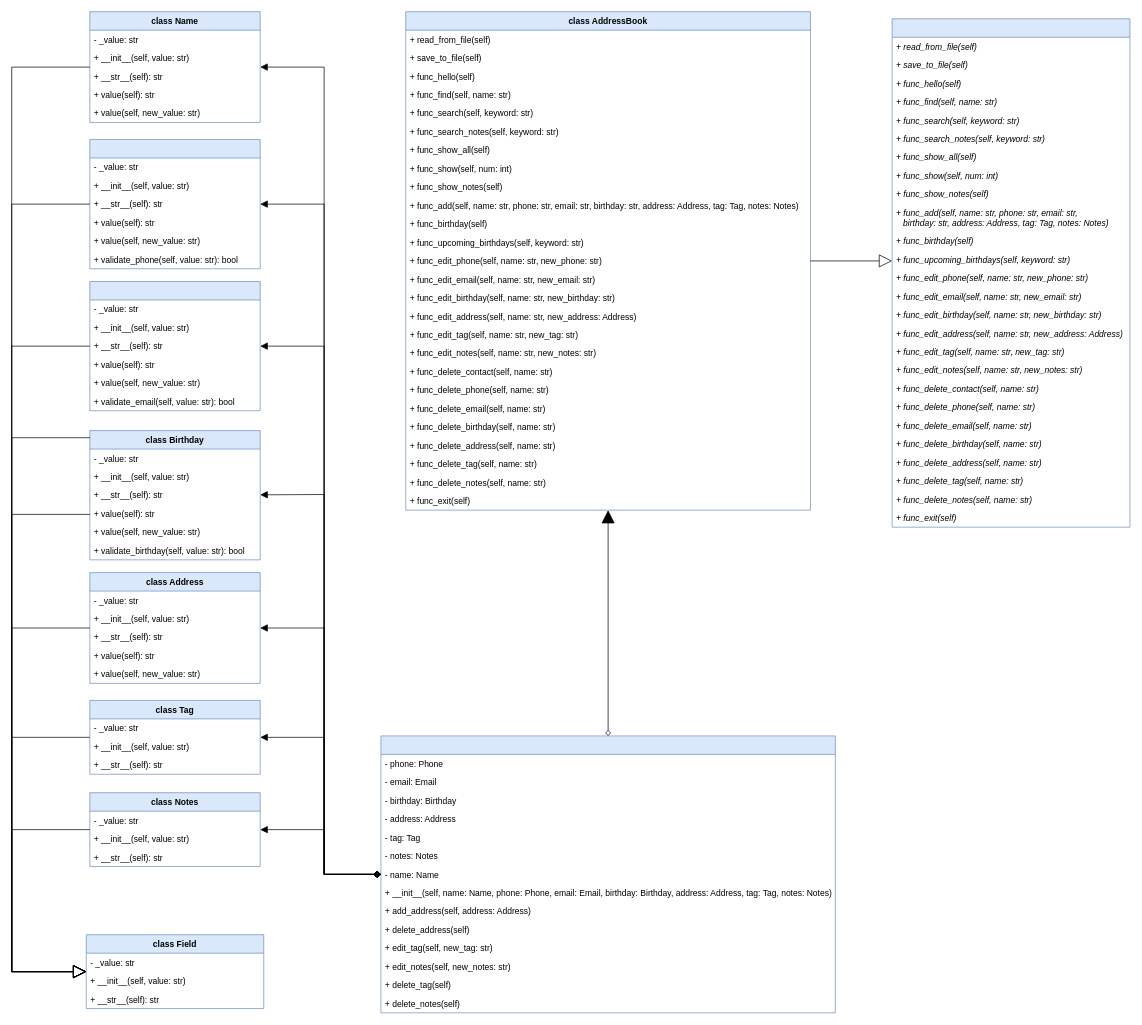
This 1142x1025 diagram has some shape labels left out. Here are the shapes that lost their labels. From the top down, the box of each, then its label:
(89, 139, 260, 269): class Phone
(891, 18, 1130, 527): class AbstractAddressBook
(89, 281, 260, 411): class Email
(380, 735, 835, 1013): class Record
